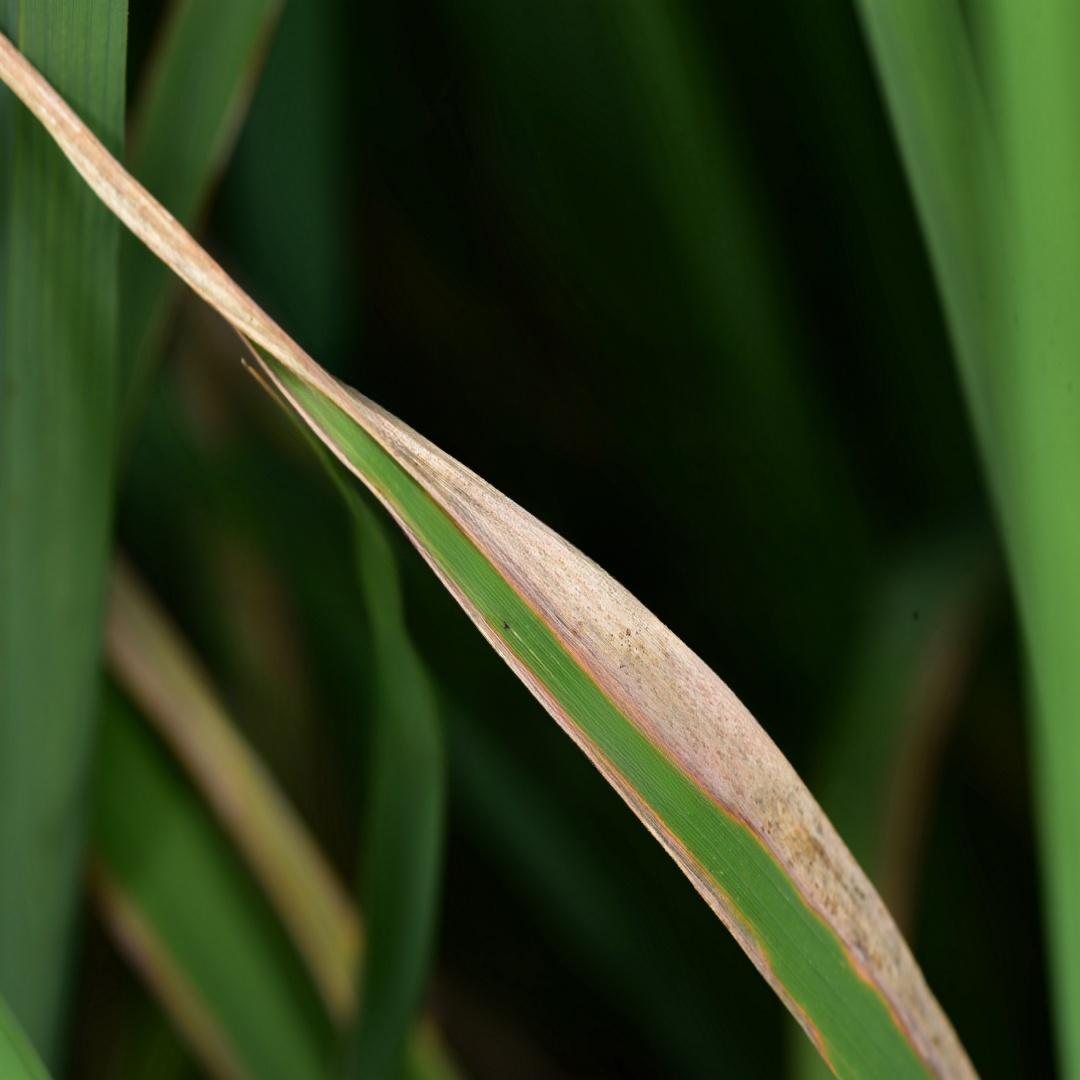BLB: (1, 34, 973, 1078)
LEAF: (0, 33, 976, 1079)
